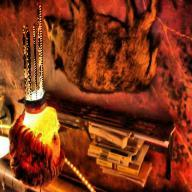boar: (43, 0, 162, 95)
